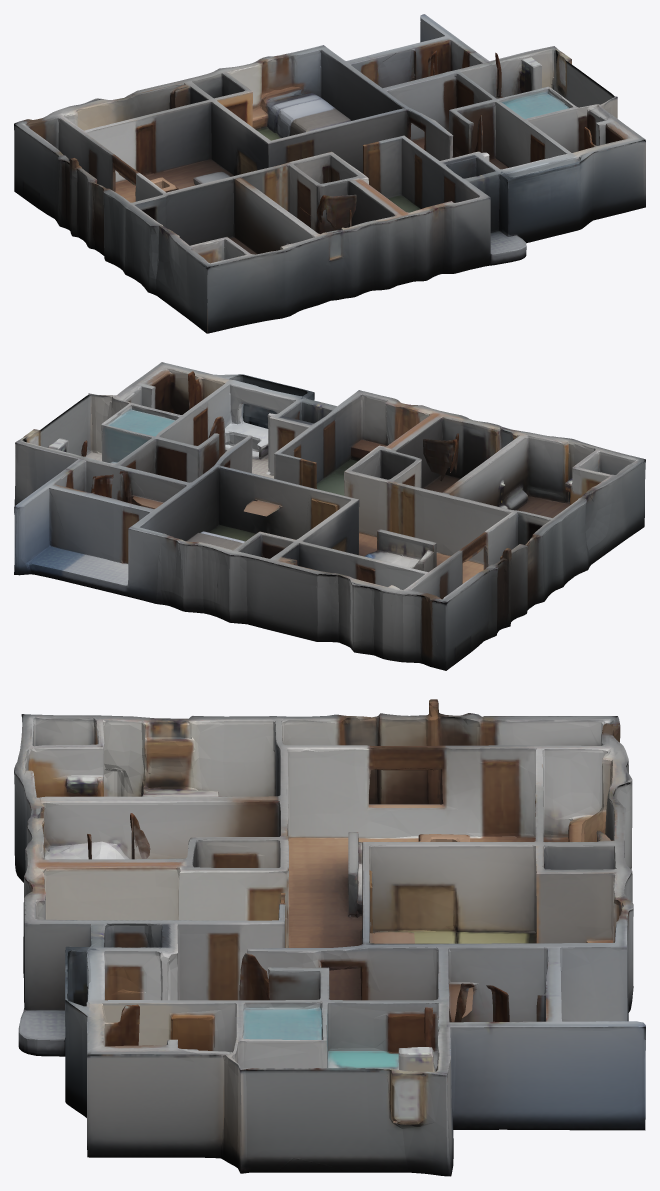
3 views of the same model, one above another, from view 1: azimuth 30°, elevation 25°; view 2: azimuth 150°, elevation 25°; view 3: azimuth 270°, elevation 25° (orthographic). The views are drawn at different scales.
Parts seen in each view (by area): view 1: world; view 2: world; view 3: world.
Boxes of the visible parts, x1=… form: world: x1=14, y1=14, x2=645, y2=333; world: x1=14, y1=362, x2=645, y2=670; world: x1=14, y1=699, x2=645, y2=1176.
Bounding box in the file's own units: 1 × 0.1585 × 0.7372.
1 material, 1 textured.
